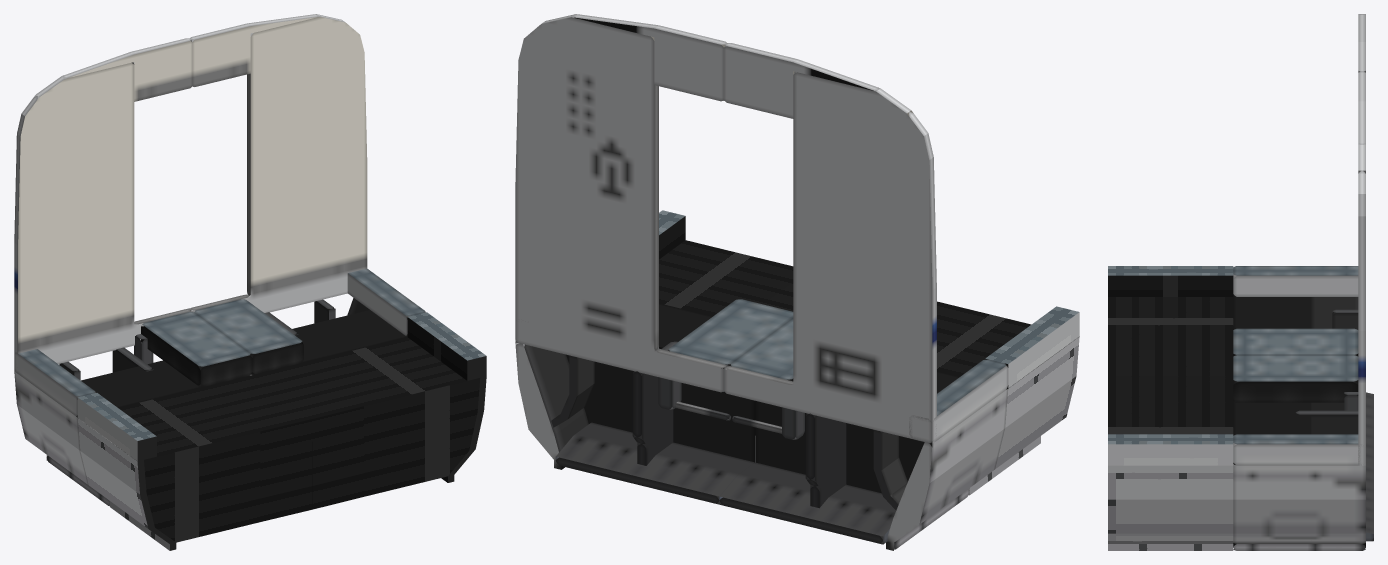
The model's file is body_original.obj.
3 views of the same model, side by side, from view 1: azimuth 30°, elevation 25°; view 2: azimuth 150°, elevation 25°; view 3: azimuth 270°, elevation 25° (orthographic). The views are drawn at different scales.
Visible parts, largest first — view 1: 端面1, 裙板-仪器舱靠近端面R, 裙板-仪器舱靠近端面L, 裙板-仪器舱R, 地板-中间, 端面2, 裙板-仪器舱L, 防雪风挡骨架, 防雪风挡骨架2; view 2: 端面1, 裙板-仪器舱R, 防雪风挡, 裙板-仪器舱L, 裙板-仪器舱靠近端面R, 端面2, 裙板-仪器舱靠近端面L, 地板-中间, 防雪风挡骨架, 防雪风挡骨架2, 车钩架; view 3: 裙板-仪器舱靠近端面L, 裙板-仪器舱L, 裙板-仪器舱靠近端面R, 地板-中间, 裙板-仪器舱R, 端面1, 防雪风挡骨架, 防雪风挡, 端面2, 防雪风挡骨架2.
Part boxes in pixels (x1=…): 端面1: x1=14, y1=14, x2=367, y2=371; 裙板-仪器舱靠近端面R: x1=77, y1=375, x2=311, y2=550; 裙板-仪器舱靠近端面L: x1=253, y1=312, x2=486, y2=509; 裙板-仪器舱R: x1=14, y1=349, x2=251, y2=506; 地板-中间: x1=141, y1=299, x2=303, y2=386; 端面2: x1=63, y1=14, x2=318, y2=101; 裙板-仪器舱L: x1=250, y1=268, x2=425, y2=375; 防雪风挡骨架: x1=112, y1=312, x2=298, y2=372; 防雪风挡骨架2: x1=59, y1=299, x2=335, y2=380; 端面1: x1=515, y1=14, x2=936, y2=443; 裙板-仪器舱R: x1=755, y1=359, x2=1008, y2=550; 防雪风挡: x1=555, y1=422, x2=895, y2=544; 裙板-仪器舱L: x1=515, y1=303, x2=755, y2=469; 裙板-仪器舱靠近端面R: x1=937, y1=301, x2=1079, y2=494; 端面2: x1=573, y1=14, x2=878, y2=118; 裙板-仪器舱靠近端面L: x1=659, y1=210, x2=793, y2=316; 地板-中间: x1=668, y1=299, x2=793, y2=381; 防雪风挡骨架: x1=632, y1=341, x2=846, y2=508; 防雪风挡骨架2: x1=551, y1=355, x2=907, y2=510; 车钩架: x1=658, y1=377, x2=804, y2=439; 裙板-仪器舱靠近端面L: x1=1108, y1=376, x2=1233, y2=550; 裙板-仪器舱L: x1=1233, y1=401, x2=1365, y2=550; 裙板-仪器舱靠近端面R: x1=1108, y1=266, x2=1233, y2=376; 地板-中间: x1=1233, y1=328, x2=1358, y2=402; 裙板-仪器舱R: x1=1233, y1=266, x2=1358, y2=329; 端面1: x1=1358, y1=14, x2=1365, y2=465; 防雪风挡骨架: x1=1296, y1=402, x2=1358, y2=434; 防雪风挡: x1=1366, y1=392, x2=1373, y2=541; 端面2: x1=1358, y1=14, x2=1365, y2=144; 防雪风挡骨架2: x1=1332, y1=309, x2=1358, y2=329.
Bounding box in the file's own units: 3.38 × 3.59 × 2.12.
